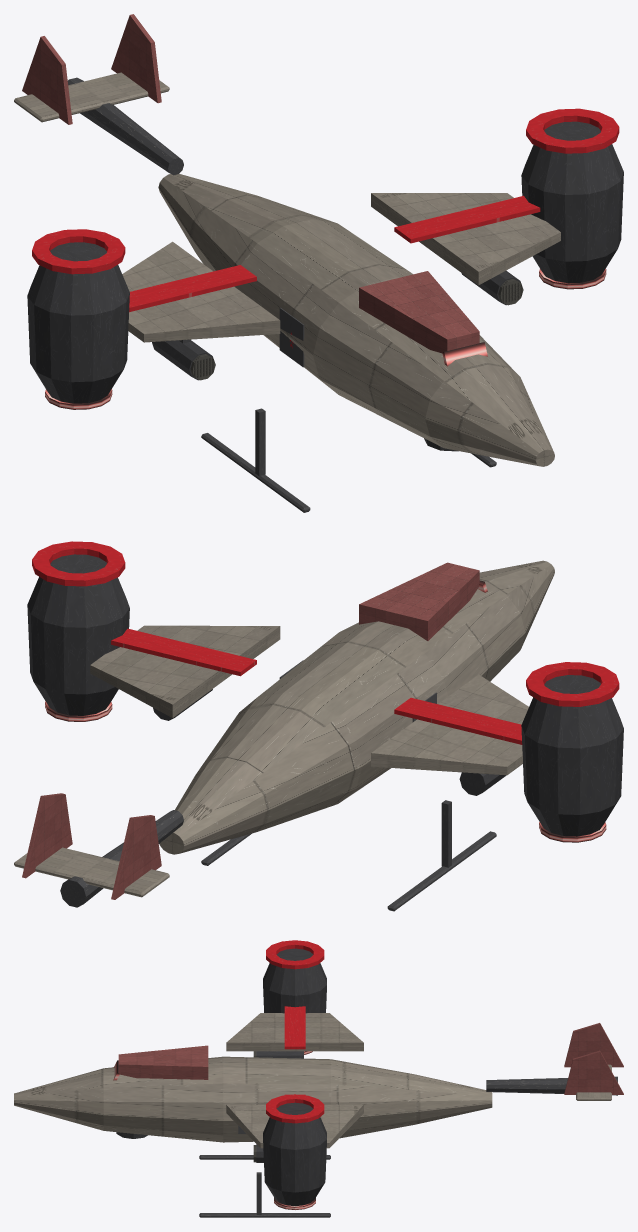
The model's file is vtol.obj.
3 views of the same model, one above another, from view 1: azimuth 30°, elevation 25°; view 2: azimuth 150°, elevation 25°; view 3: azimuth 270°, elevation 25° (orthographic). The views are drawn at different scales.
Visible parts, largest first — view 1: vulture; view 2: vulture; view 3: vulture.
Part boxes in pixels (<box>): vulture: <box>14,14,623,512</box>; vulture: <box>14,541,623,911</box>; vulture: <box>14,940,623,1217</box>.
Bounding box in the file's own units: 7.2 × 2.92 × 10.2.
1 material, 1 textured.
